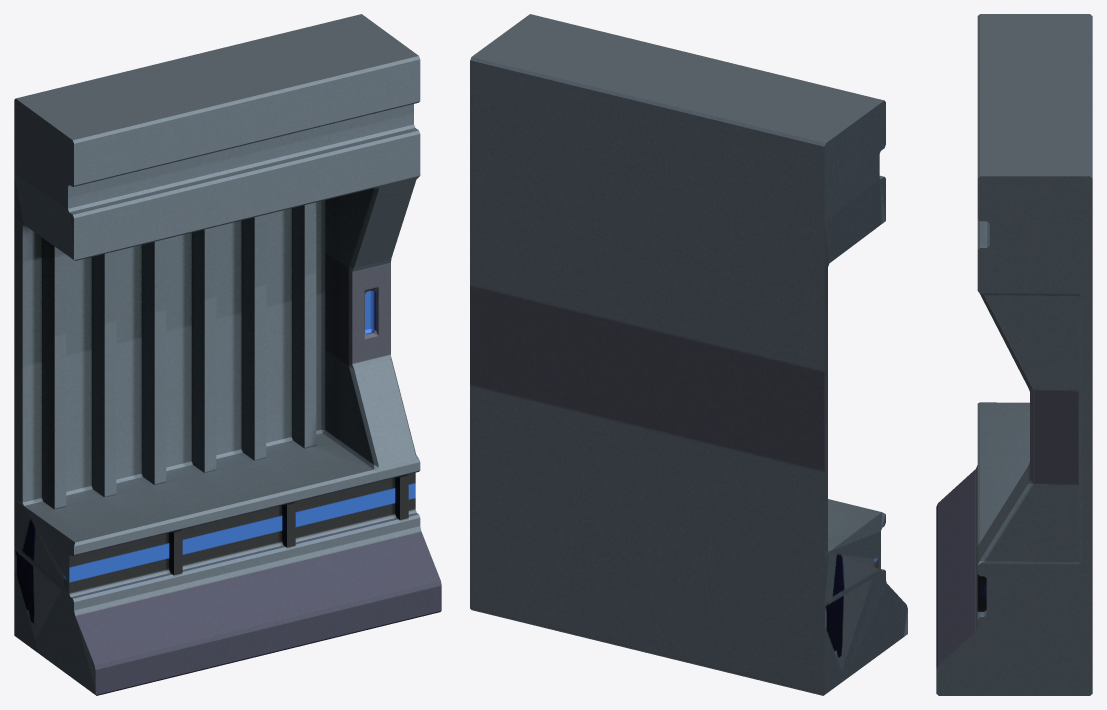
Rendered from wall3.fbx.
3 views of the same model, side by side, from view 1: azimuth 30°, elevation 25°; view 2: azimuth 150°, elevation 25°; view 3: azimuth 270°, elevation 25° (orthographic). The views are drawn at different scales.
Visible parts, largest first — view 1: W3LP; view 2: W3LP; view 3: W3LP.
Part boxes in pixels (x1,y1,x2,y2): W3LP: (14,14,441,695); W3LP: (470,14,907,695); W3LP: (936,14,1092,695).
Bounding box in the file's own units: 401 × 598 × 163.
Materials: 1 (1 with a texture image).
